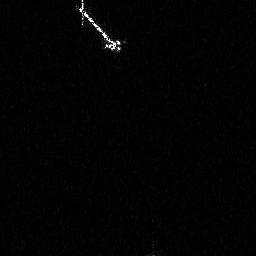ship: (75, 1, 126, 54)
